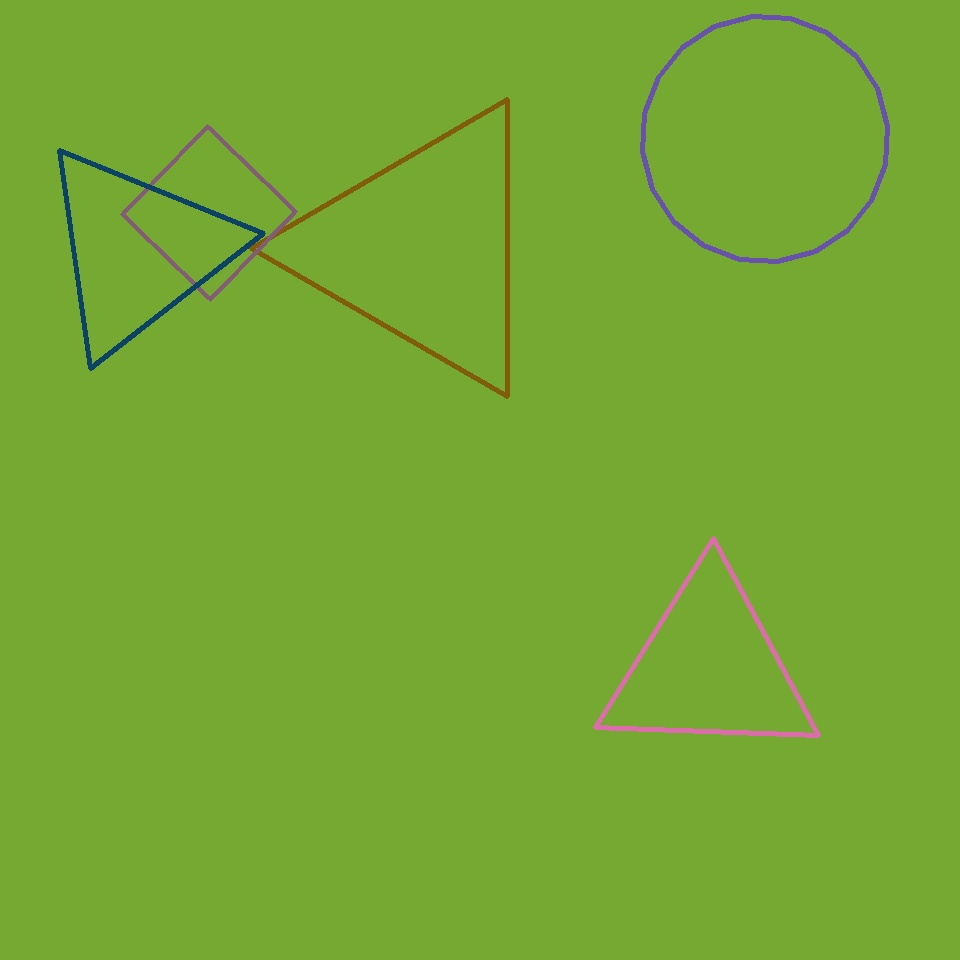circle: (294, 100, 550, 397), (36, 142, 240, 360), (597, 569, 820, 766)
square: (123, 126, 296, 300)
triangle: (642, 17, 888, 262)
